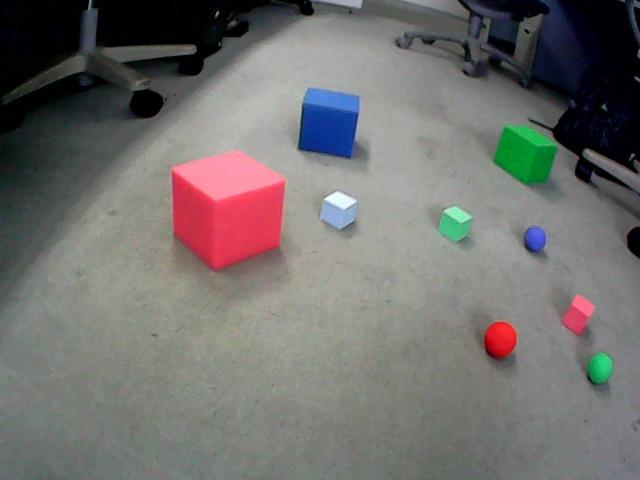blue_block: (299, 88, 359, 157), (321, 191, 357, 229)
red_block: (171, 151, 284, 269), (562, 295, 594, 334)
